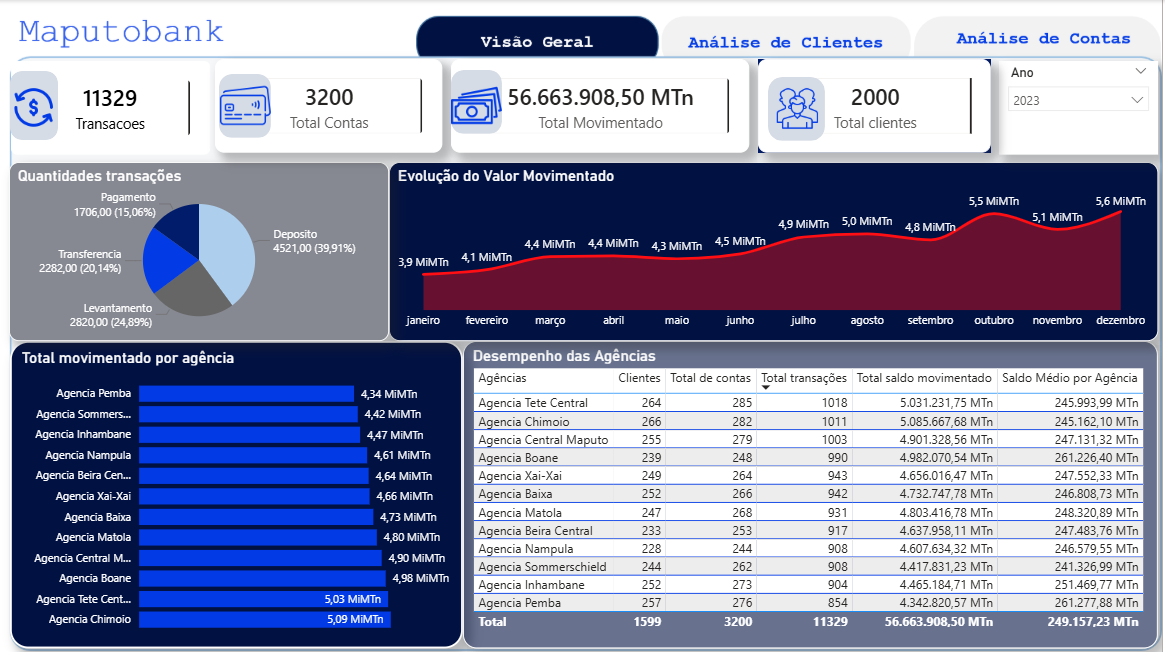

The page's visual inventory and layout, read from the dashboard file:
{"tool":"powerbi","page":{"name":"Visao Geral ","canvas":[1280,720],"ordinal":0},"visuals":[{"type":"cardVisual","fields":{"Data":["dim_clientes.Total clientes"]},"box":[835.7,64.9,256.2,103.4],"z":0,"group":"g3"},{"type":"cardVisual","fields":{"Data":["fato_transacoes.Total Transacoes"]},"box":[14.3,67.1,218.8,103.4],"z":0},{"type":"cardVisual","fields":{"Data":["dim_contas.Total Contas"]},"box":[238.6,65,249.6,103.4],"z":1000,"group":"g1"},{"type":"barChart","title":"Total movimentado por agência","fields":{"Category":["dim_agencias.nome_agencia"],"Y":["Sum(fato_transacoes.valor)"]},"box":[13.2,375,498.1,337.6],"z":1000},{"type":"tableEx","title":"Desempenho das Agências","fields":{"Values":["dim_agencias.nome_agencia","dim_clientes.Clientes por agência","dim_contas.id_conta","CountNonNull(fato_transacoes.id_transacao)","Sum(fato_transacoes.valor)","dim_contas.Saldo Médio por Agência"]},"box":[511.3,375,764.3,337.6],"z":2000},{"type":"cardVisual","fields":{"Data":["fato_transacoes.Total Movimentado"]},"box":[498.1,64.9,327.7,103.4],"z":3000,"group":"g2"},{"type":"lineChart","title":"Evolução do Valor Movimentado","fields":{"Category":["fato_transacoes.data_transacao.Variation.Hierarquia de datas.Mês"],"Y":["fato_transacoes.Total Movimentado"]},"box":[430,178.1,845.6,196.8],"z":3000},{"type":"slicer","fields":{"Values":["fato_transacoes.data_transacao.Variation.Hierarquia de datas.Ano"]},"box":[1100.8,67.1,174.8,103.4],"z":4000},{"type":"pieChart","title":"Quantidades transações","fields":{"Category":["dim_tipos_transacao.nome_tipo"],"Y":["CountNonNull(fato_transacoes.id_transacao)"]},"box":[12.1,178.1,417.9,196.8],"z":5000},{"type":"shape","box":[13.2,78.1,52.8,75.9],"z":6000},{"type":"image","box":[13.2,90.2,51.7,56.1],"z":7000},{"type":"group","id":"g1","title":"Grupo 2","box":[238.6,65,249.6,103.4],"z":8000},{"type":"group","id":"g2","title":"Grupo 3","box":[498.1,64.9,327.7,103.4],"z":9000},{"type":"group","id":"g3","title":"Grupo 4","box":[835.7,64.9,256.2,103.4],"z":10000},{"type":"shape","box":[243,81.4,57.2,70.4],"z":10000,"group":"g1"},{"type":"actionButton","box":[741.2,22,252.9,42.9],"z":11000},{"type":"shape","box":[498.1,77,56.1,70.4],"z":11000,"group":"g2"},{"type":"actionButton","box":[1022.7,22,252.9,42.9],"z":11001},{"type":"shape","box":[847.1,84.7,62.6,70.4],"z":12000,"group":"g3"},{"type":"image","box":[243,88,57.2,56.1],"z":14000,"group":"g1"},{"type":"image","box":[498.1,88,56.1,56.1],"z":15000,"group":"g2"},{"type":"image","box":[855.1,91.3,46.7,56.1],"z":16000,"group":"g3"}]}

Visuals, with their boxes in screenshot pixels (x1, y1, x2, y2), scaled from the page's 1280x720 canvas onto the 1165x652 screenshot:
cardVisual - dim_clientes.Total clientes: detection(761, 59, 994, 152)
cardVisual - fato_transacoes.Total Transacoes: detection(13, 61, 212, 154)
cardVisual - dim_contas.Total Contas: detection(217, 59, 444, 152)
"Total movimentado por agência" barChart: detection(12, 340, 465, 645)
"Desempenho das Agências" tableEx: detection(465, 340, 1161, 645)
cardVisual - fato_transacoes.Total Movimentado: detection(453, 59, 752, 152)
"Evolução do Valor Movimentado" lineChart: detection(391, 161, 1161, 339)
slicer - fato_transacoes.data_transacao.Variation.Hierarquia de datas.Ano: detection(1002, 61, 1161, 154)
"Quantidades transações" pieChart: detection(11, 161, 391, 339)
shape: detection(12, 71, 60, 139)
image: detection(12, 82, 59, 132)
"Grupo 2" group: detection(217, 59, 444, 152)
"Grupo 3" group: detection(453, 59, 752, 152)
"Grupo 4" group: detection(761, 59, 994, 152)
shape: detection(221, 74, 273, 137)
actionButton: detection(675, 20, 905, 59)
shape: detection(453, 70, 504, 133)
actionButton: detection(931, 20, 1161, 59)
shape: detection(771, 77, 828, 140)
image: detection(221, 80, 273, 130)
image: detection(453, 80, 504, 130)
image: detection(778, 83, 821, 133)
